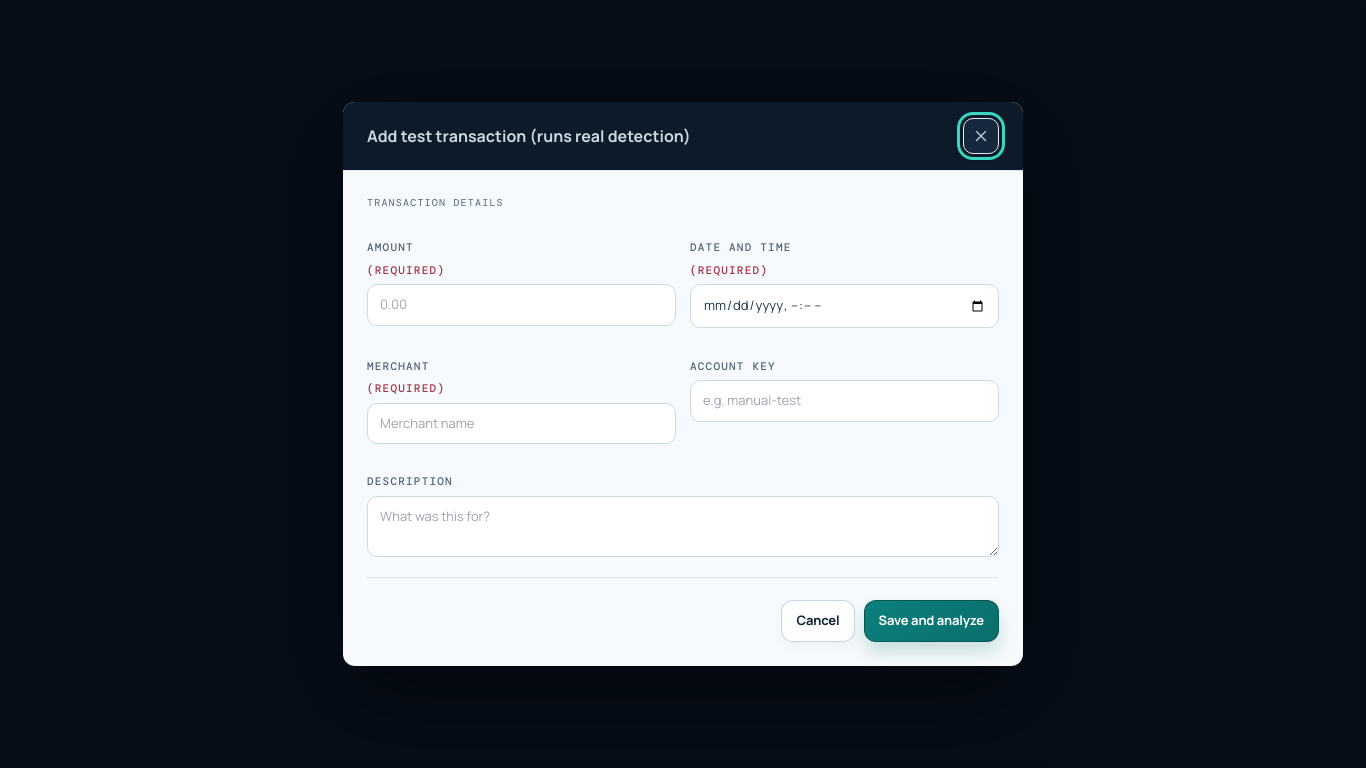
Test: AddDataModal validation and focus › shows specific validation errors and does not save
What coordinates should you click on to do the following:
click the button "Save and analyze"
I would click on:
 (931, 621)
Its box is [864,600,999,642].
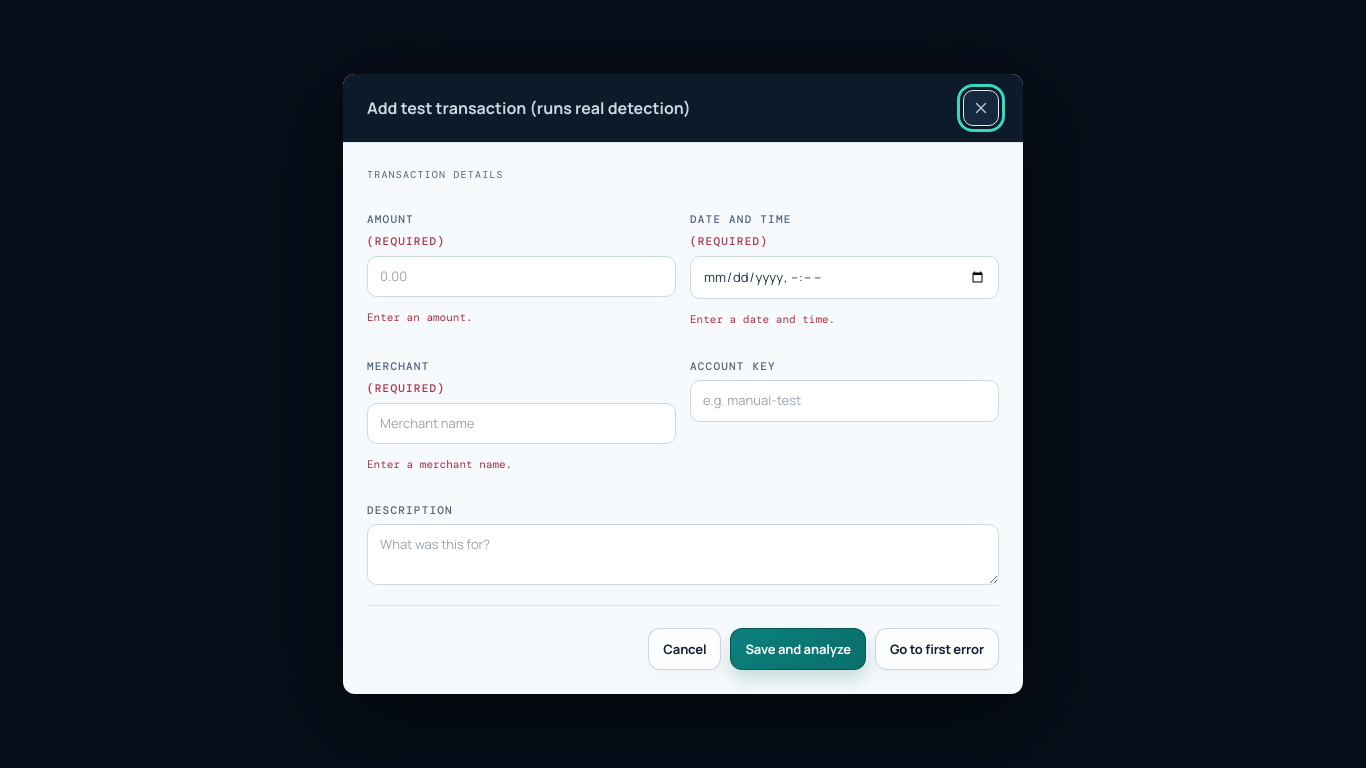
Expected: the text "Enter an amount." is shown, [367,310,473,324]
Expected: the text "Enter a date and time." is shown, [690,312,835,326]
Expected: the text "Enter a merchant name." is shown, [367,457,512,471]
